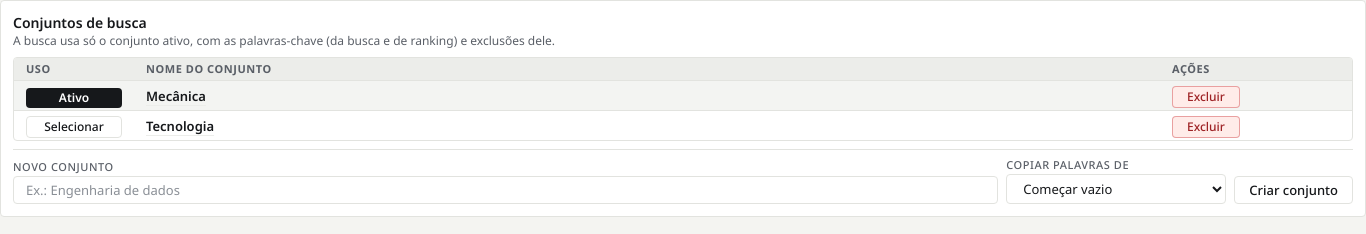
Test: ConjuntosPanel › trocar o conjunto ativa o escolhido
What coordinates should you click on to do the following:
click the button with aria-label "Selecionar Tecnologia"
I would click on:
 (74, 127)
Its box is x1=26 y1=116 x2=122 y2=138.
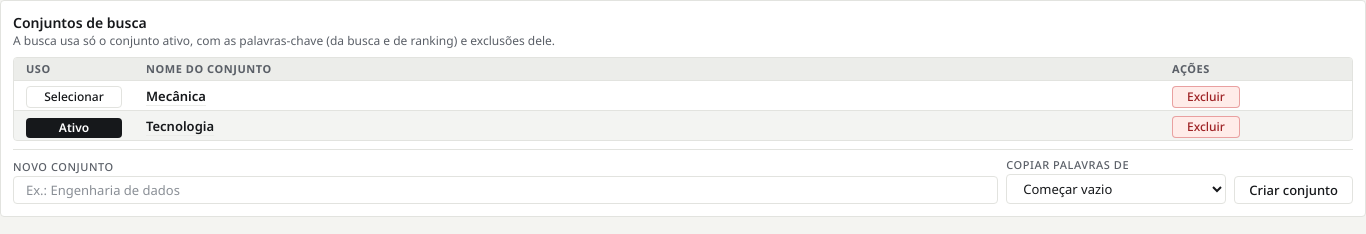
Result: the button with aria-label "Tecnologia está ativo" is shown at x1=26 y1=118 x2=122 y2=138
